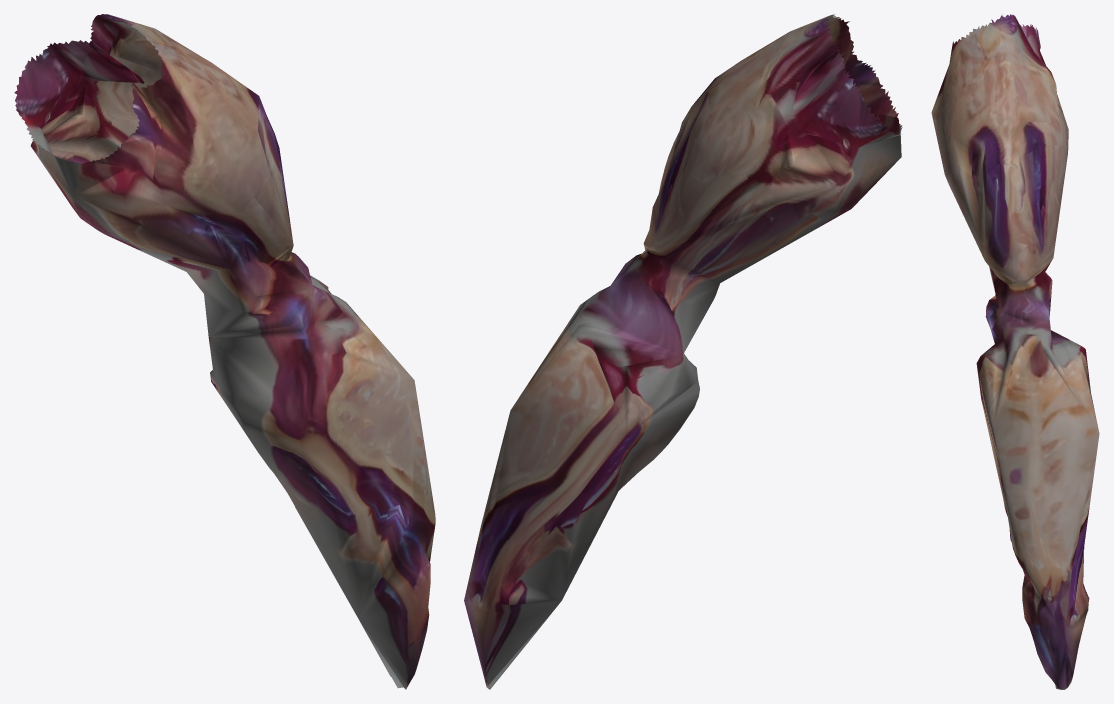
The model's file is Alien_PataDer.obj.
3 views of the same model, side by side, from view 1: azimuth 30°, elevation 25°; view 2: azimuth 150°, elevation 25°; view 3: azimuth 270°, elevation 25° (orthographic). The views are drawn at different scales.
Visible parts, largest first — view 1: PataDer; view 2: PataDer; view 3: PataDer.
Part boxes in pixels (left/top/right/bottom): PataDer: left=14, top=14, right=435, bottom=689; PataDer: left=464, top=14, right=902, bottom=689; PataDer: left=931, top=14, right=1099, bottom=689.
Size of the model in its own units: 0.2943 by 0.5043 by 0.137.
